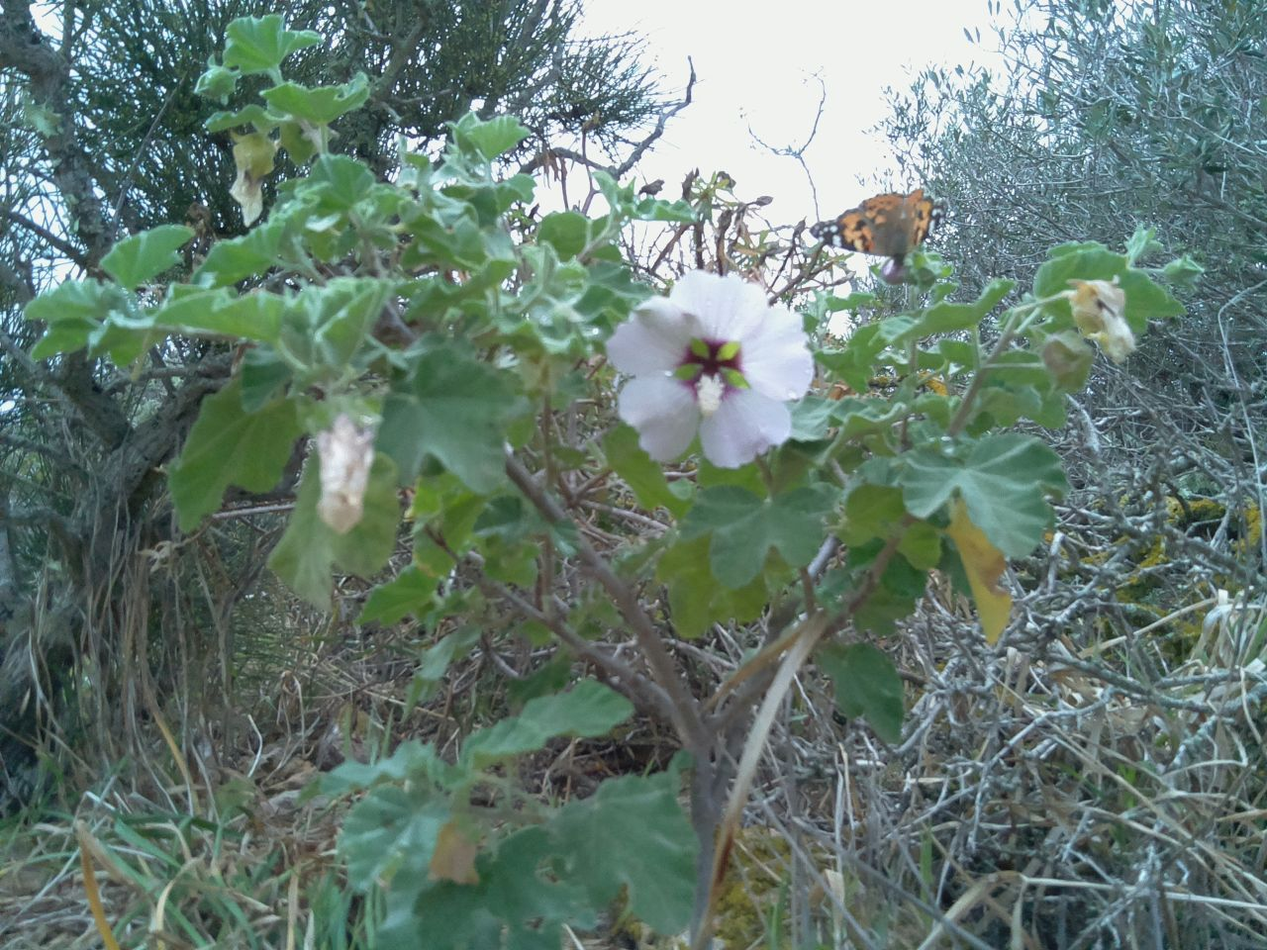Vanessa cardui: (789, 170, 960, 268)
